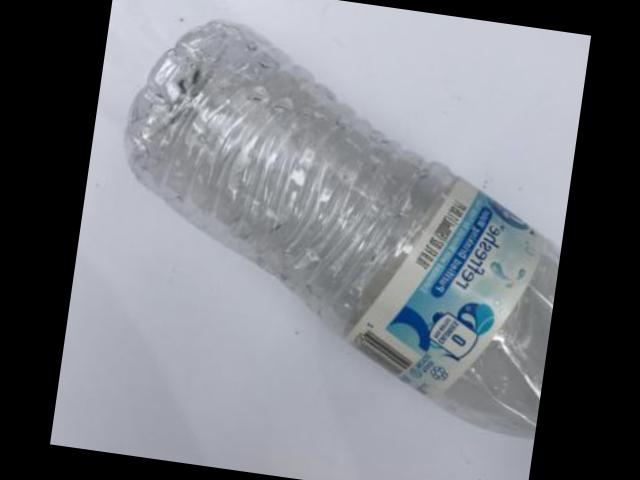plastic: (123, 20, 560, 435)
